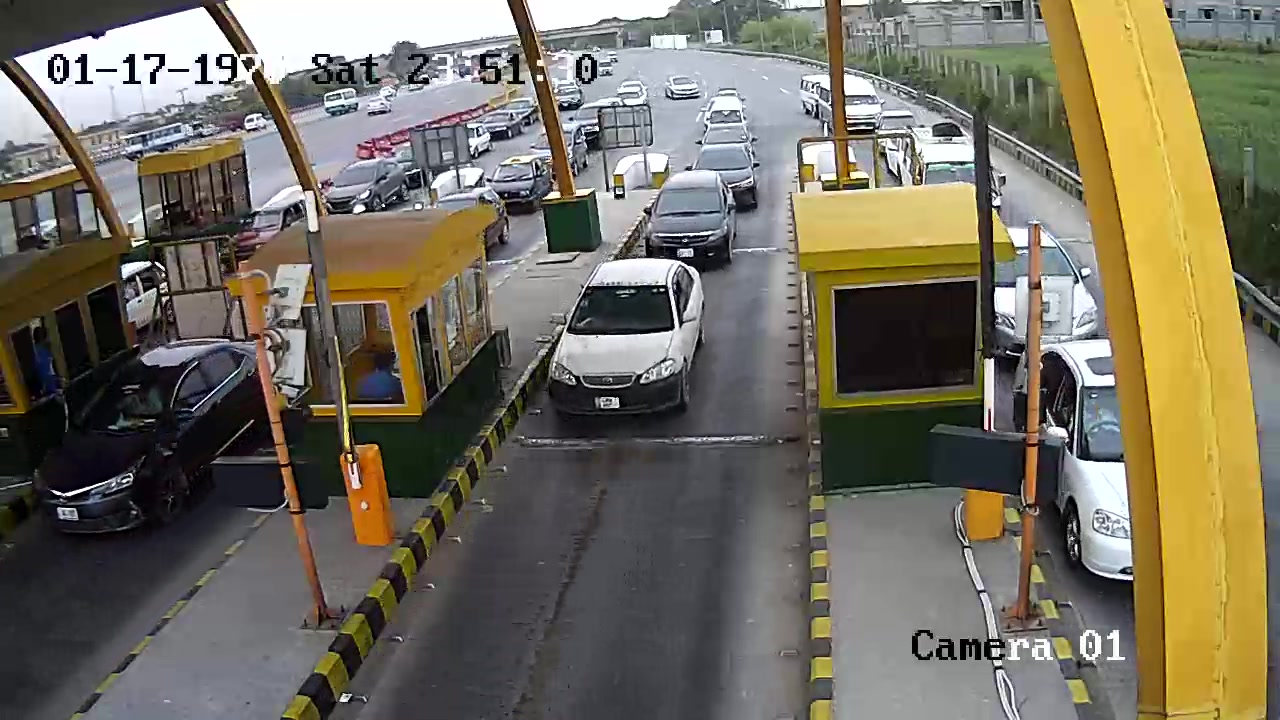F1: (536, 258, 717, 426)
